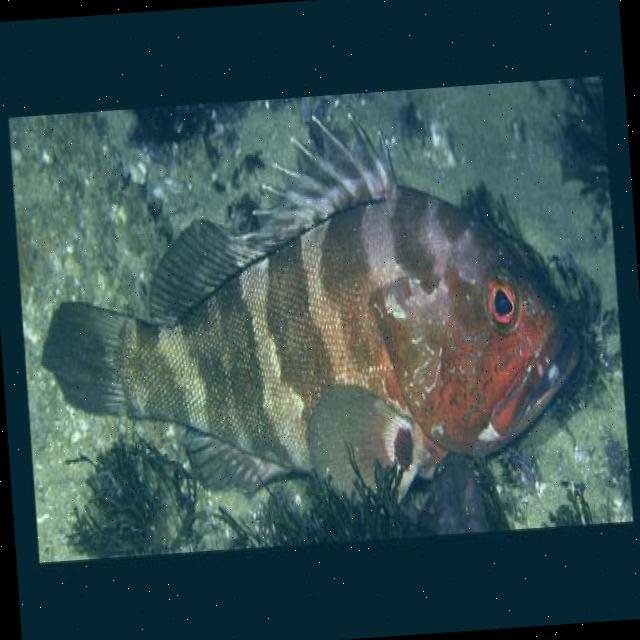ikan: (22, 99, 614, 523)
